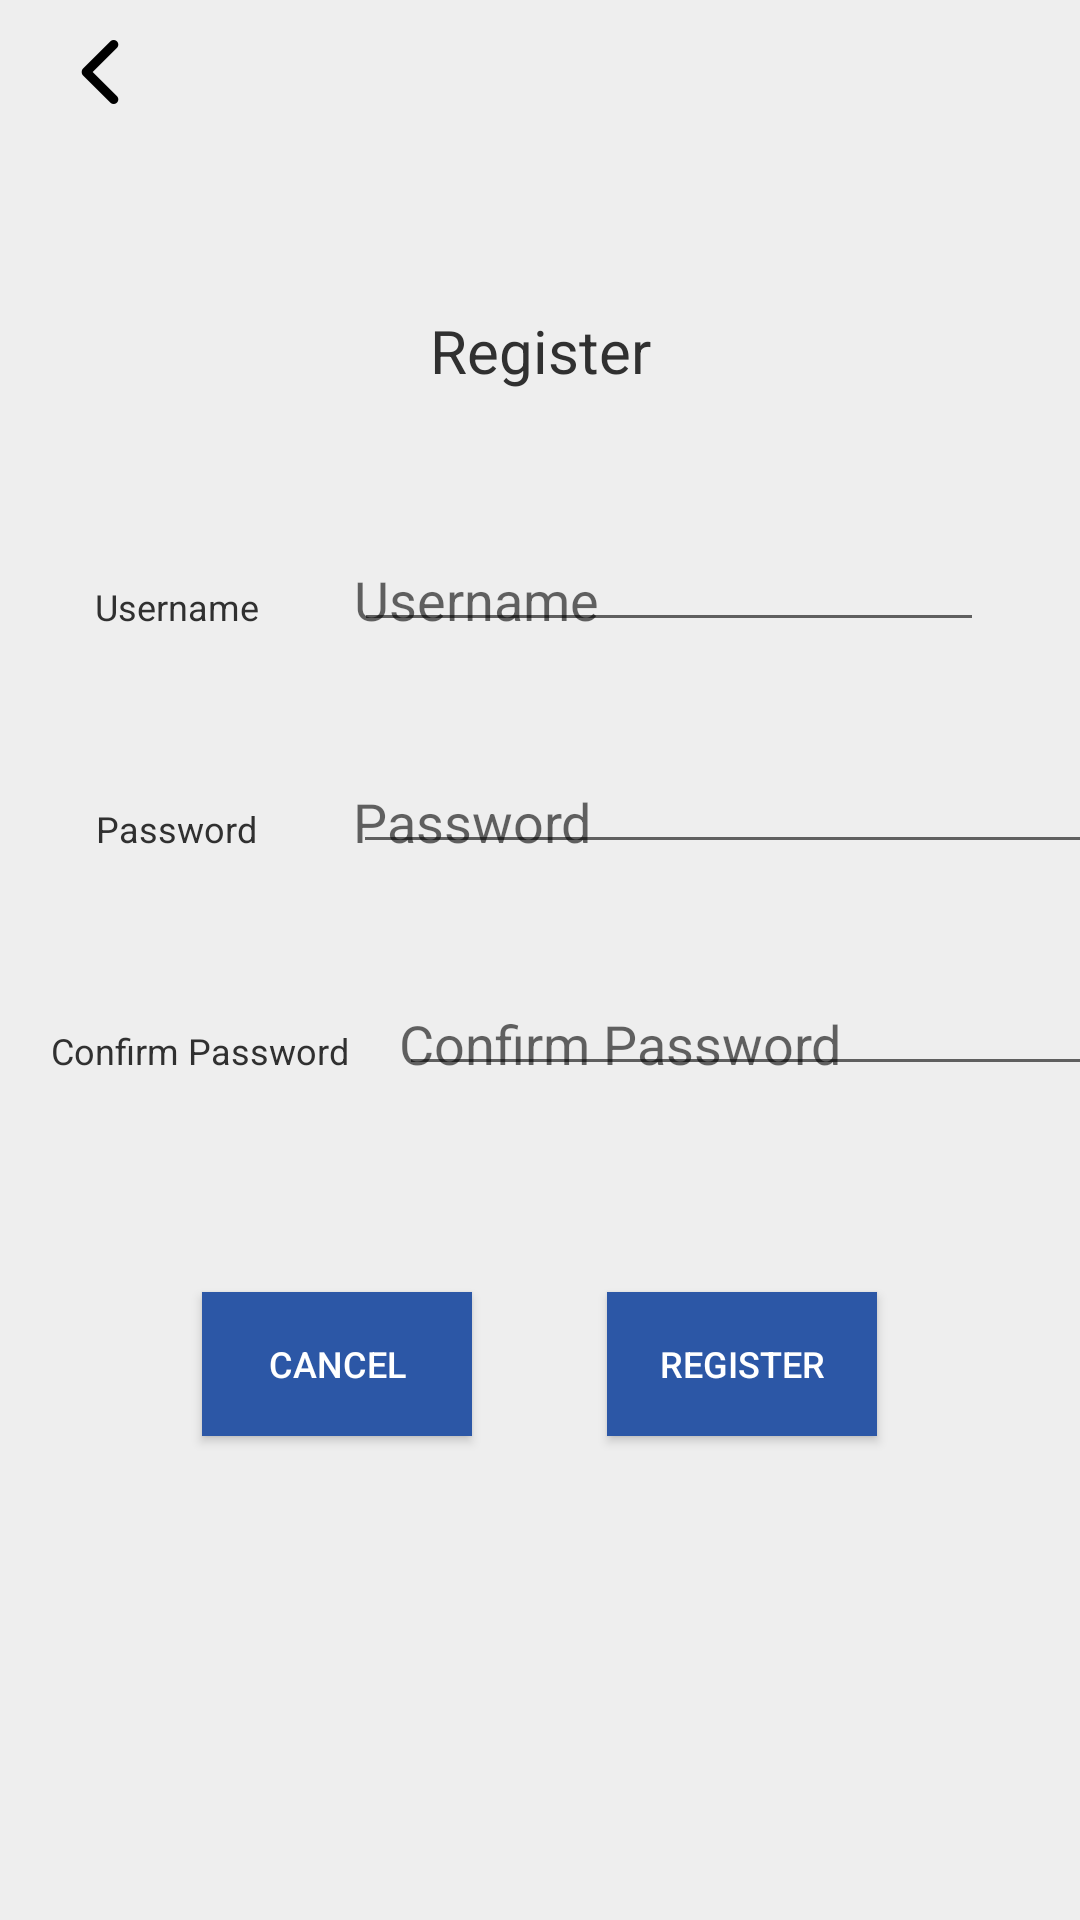

Named icons in this screenshot (1080w x 1920h) and their centers, [x,y]:
back arrow: [100,72]
